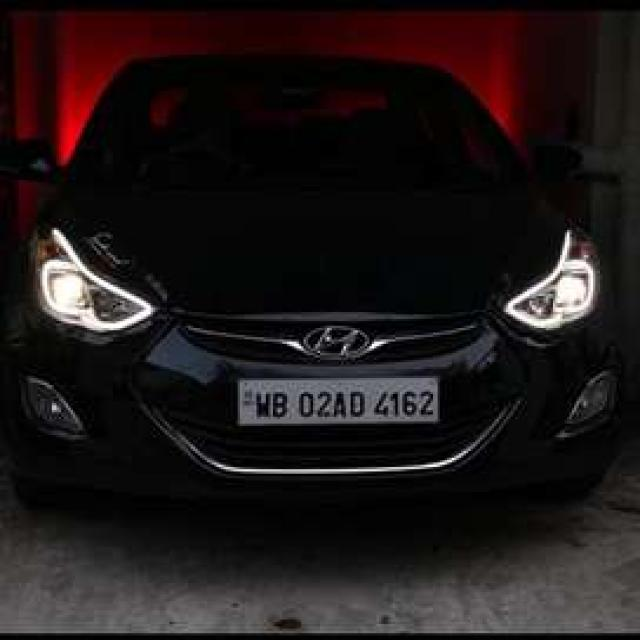Plate: (236, 375, 439, 423)
